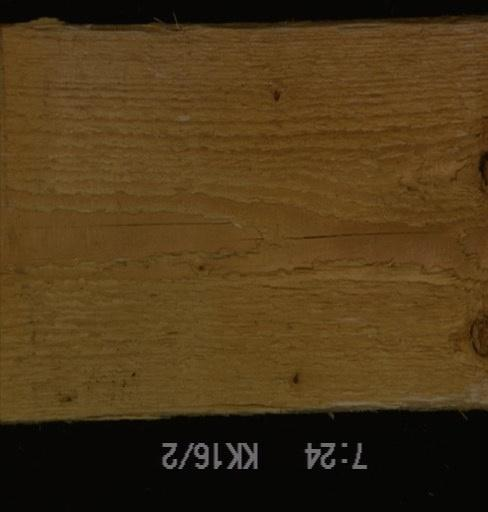small_knot: (271, 86, 283, 108), (285, 372, 302, 385)
split: (232, 217, 487, 246), (0, 215, 243, 237), (85, 389, 283, 414)
wave: (21, 8, 182, 45), (319, 389, 486, 411)
